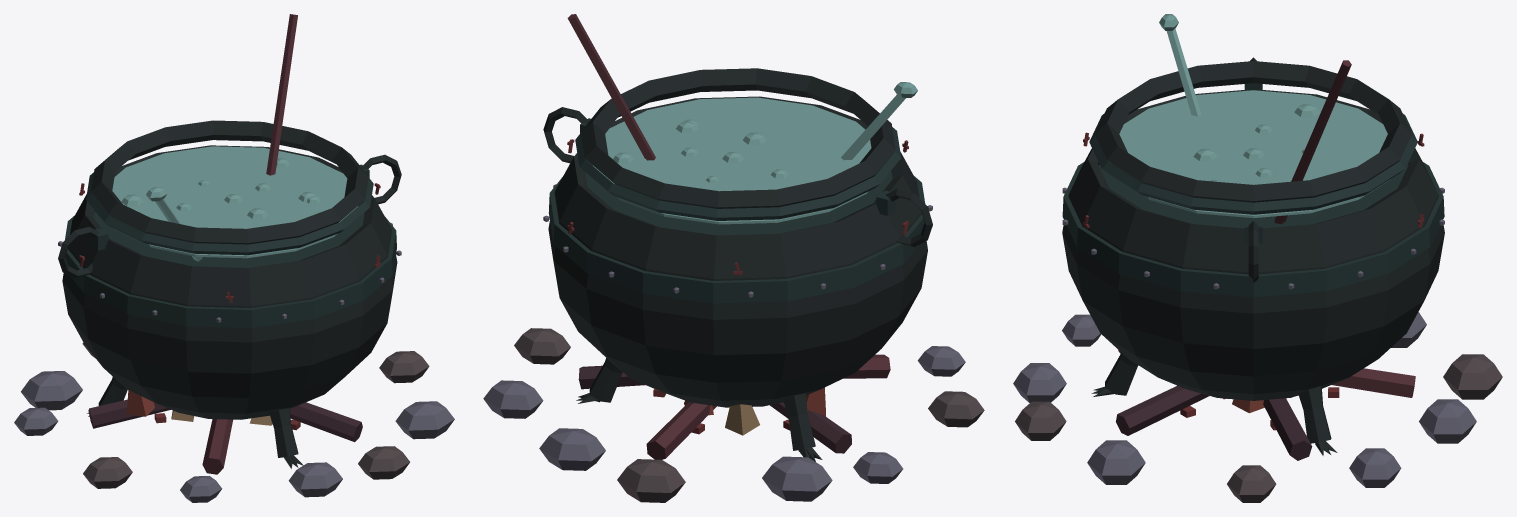
Rendered from cazan.glb.
The picture shows the model from 3 angles, left to right: view 1: azimuth 30°, elevation 25°; view 2: azimuth 150°, elevation 25°; view 3: azimuth 270°, elevation 25°; orthographic projection. The views are drawn at different scales.
Parts seen in each view (by area): view 1: Cazan, Lichid, Foc; view 2: Cazan, Lichid, Foc; view 3: Cazan, Lichid.
Part boxes in pixels (x1,y1,x2,y2): Cazan: [14, 14, 454, 502]; Lichid: [112, 146, 358, 258]; Foc: [126, 390, 272, 425]; Cazan: [483, 14, 984, 502]; Lichid: [592, 97, 871, 224]; Foc: [684, 387, 825, 435]; Cazan: [1013, 14, 1502, 502]; Lichid: [1116, 90, 1390, 218].
Bounding box in the file's own units: 2.18 × 2.01 × 2.2.
